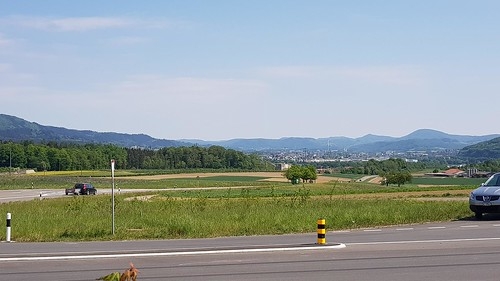grass: (8, 192, 460, 239)
sky: (1, 1, 500, 116)
street: (9, 223, 500, 281)
tree: (283, 162, 319, 186), (380, 175, 411, 190)
vegetation: (1, 140, 264, 171)
